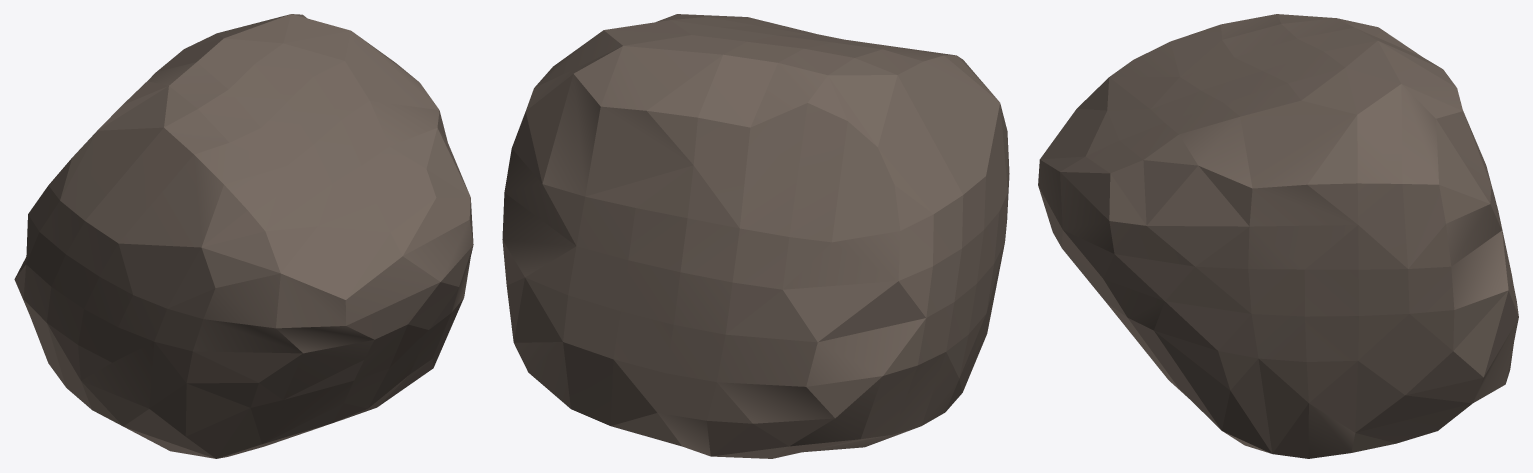
Rendered from Asteroid8.fbx.
The picture shows the model from 3 angles, left to right: view 1: azimuth 30°, elevation 25°; view 2: azimuth 150°, elevation 25°; view 3: azimuth 270°, elevation 25°; orthographic projection. The views are drawn at different scales.
Parts seen in each view (by area): view 1: Asteroid8; view 2: Asteroid8; view 3: Asteroid8.
Boxes of the visible parts, x1=… form: Asteroid8: x1=14, y1=14, x2=473, y2=458; Asteroid8: x1=502, y1=14, x2=1009, y2=458; Asteroid8: x1=1038, y1=14, x2=1518, y2=458.
Size of the model in its own units: 62.76 by 58.08 by 68.99.
